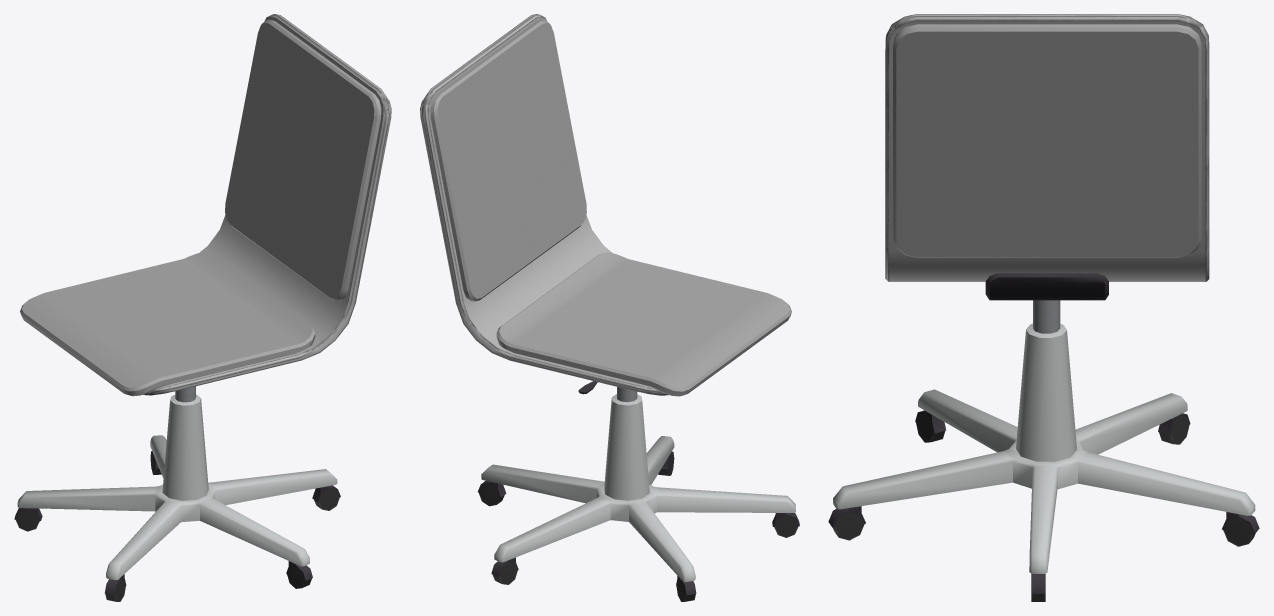
The model's file is Chair.obj.
3 views of the same model, side by side, from view 1: azimuth 30°, elevation 25°; view 2: azimuth 150°, elevation 25°; view 3: azimuth 270°, elevation 25° (orthographic). The views are drawn at different scales.
Visible parts, largest first — view 1: armchair, _chair_base; view 2: armchair, _chair_base; view 3: armchair, _chair_base.
Part boxes in pixels (box(x1,y1,x2,y2)): armchair: box(20, 14, 391, 396); _chair_base: box(14, 386, 340, 601); armchair: box(420, 14, 791, 396); _chair_base: box(477, 387, 799, 601); armchair: box(885, 14, 1209, 300); _chair_base: box(828, 300, 1259, 601).
Size of the model in its own units: 0.533 by 0.8308 by 0.5499.
1 material, 1 textured.
